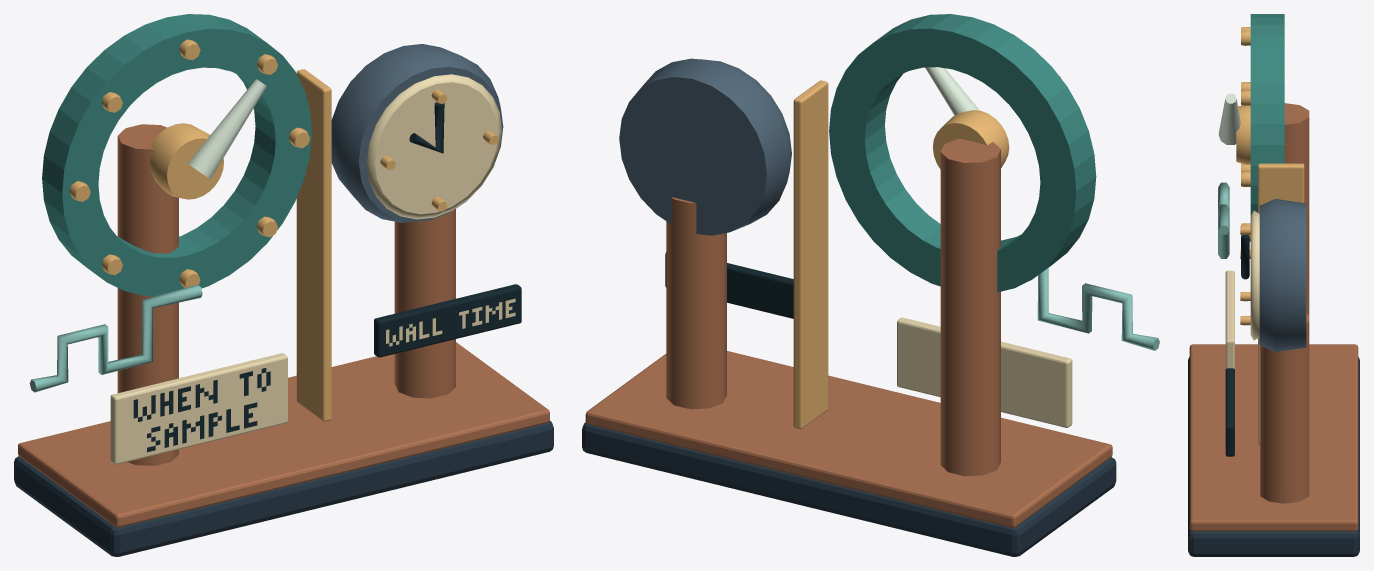
3 views of the same model, side by side, from view 1: azimuth 30°, elevation 25°; view 2: azimuth 150°, elevation 25°; view 3: azimuth 270°, elevation 25° (orthographic). The views are drawn at different scales.
Visible parts, largest first — view 1: PR097 enamel and hardware; view 2: PR097 enamel and hardware; view 3: PR097 enamel and hardware.
Boxes of the visible parts, x1,y1,x2,y2 form: PR097 enamel and hardware: [14, 14, 553, 556]; PR097 enamel and hardware: [582, 14, 1159, 556]; PR097 enamel and hardware: [1188, 14, 1359, 556].
Bounding box in the file's own units: 1.35 × 1.22 × 0.4765.
